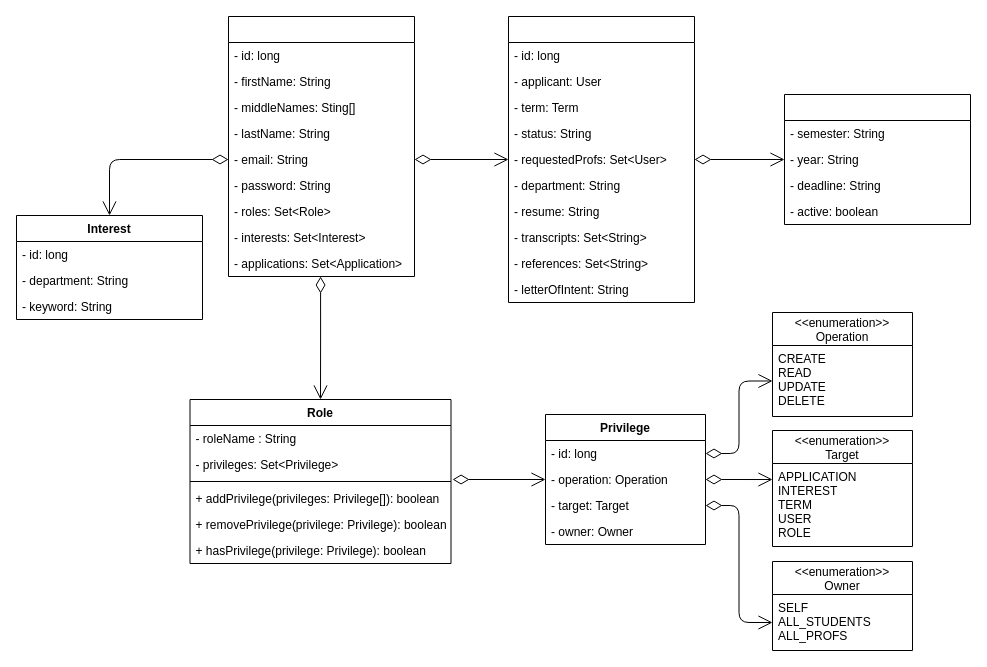
Image size: 987x667. Some labels were removed from this diagram. The shapes that lost their labels are listed below. From the top down, each one's box as (x1, y1, x2, y2) in pixels, then its label:
(228, 16, 414, 276): User
(508, 16, 694, 302): Application
(784, 94, 970, 224): Term
